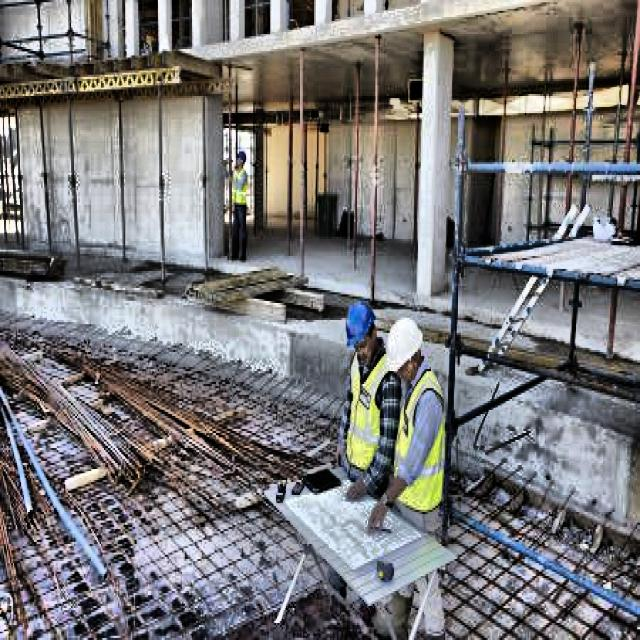helmet: (343, 292, 384, 363), (386, 312, 426, 376)
